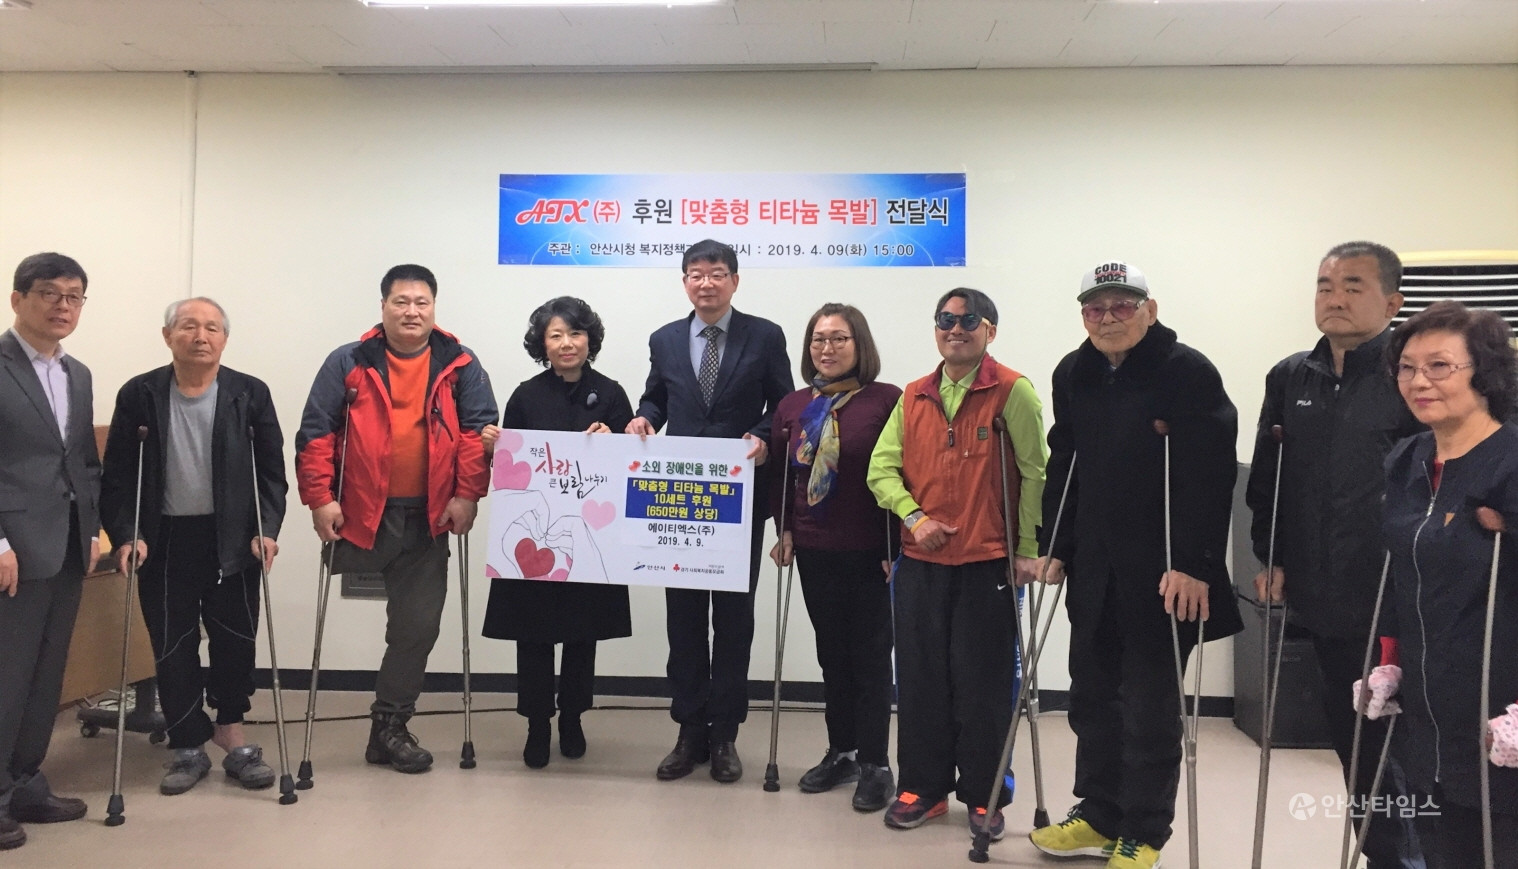crutches: (968, 262, 1243, 869), (291, 264, 497, 788), (103, 296, 297, 828), (867, 285, 1052, 838)
